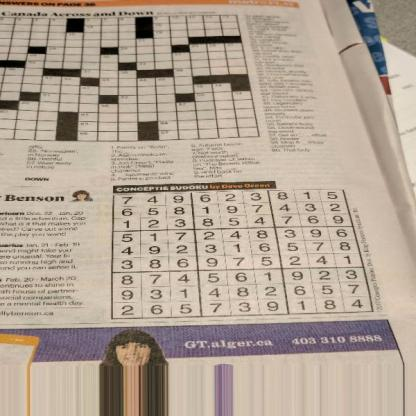sudoku: (111, 187, 377, 320)
